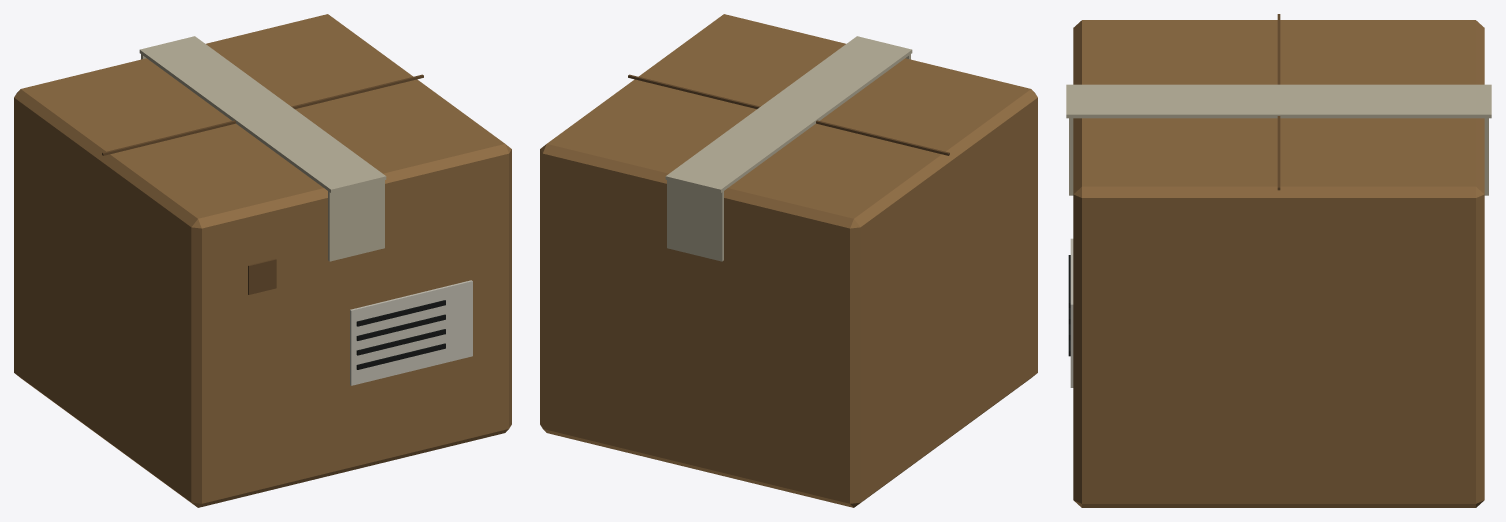
Rendered from thung_carton.glb.
3 renders of one model, left to right at view 1: azimuth 30°, elevation 25°; view 2: azimuth 150°, elevation 25°; view 3: azimuth 270°, elevation 25°, orthographic. The views are drawn at different scales.
Parts seen in each view (by area): view 1: thung_carton; view 2: thung_carton; view 3: thung_carton.
Boxes of the visible parts, x1,y1,x2,y2 form: thung_carton: [14, 14, 511, 507]; thung_carton: [540, 14, 1037, 507]; thung_carton: [1066, 14, 1491, 507].
Bounding box in the file's own units: 0.58 × 0.506 × 0.6.
